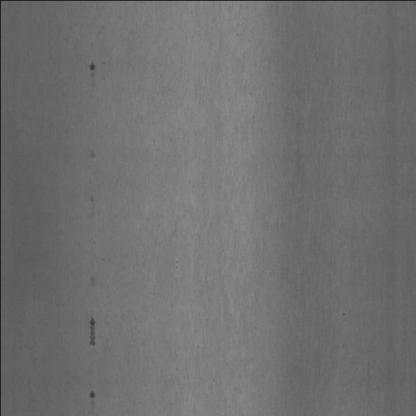oil_spot: (86, 311, 96, 351), (86, 62, 96, 83), (88, 145, 97, 166), (88, 389, 96, 410), (88, 273, 96, 291)
